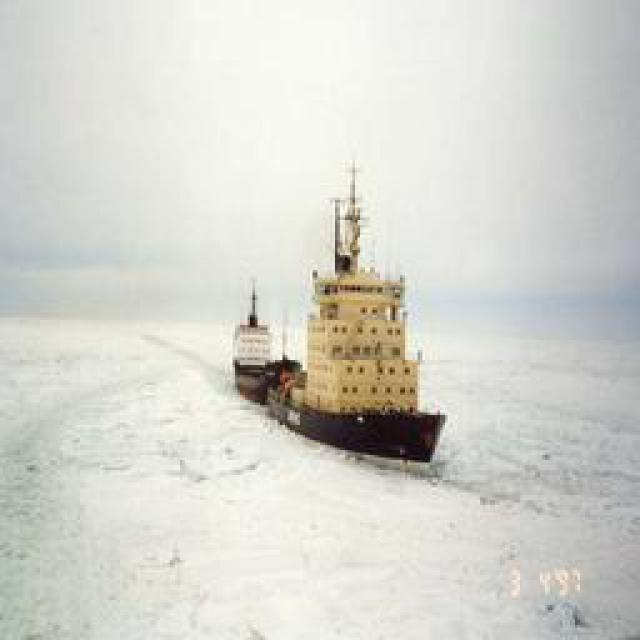Ship: (221, 151, 442, 469)
